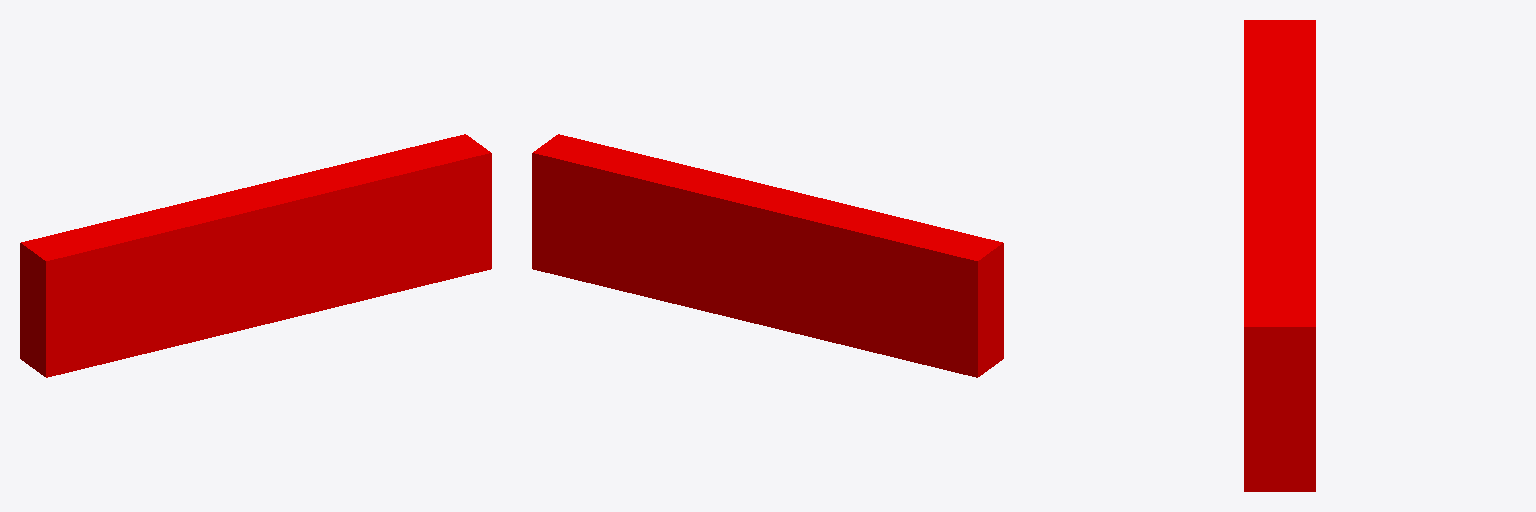
The robot description file, URDF, robot "plate1":
<?xml version="1.0" ?>
<robot name="plate1">
  <link concave="no" name="plateLink1">
  <contact>
      <lateral_friction value="2"/>
  </contact>
    <inertial>
      <origin rpy="0 0 0" xyz="-1 -0.15 0"/>
       <mass value=".0"/>
       <inertia ixx="0" ixy="0" ixz="0" iyy="0" iyz="0" izz="0"/>
    </inertial>
    <visual>
      <origin rpy="0 0 0" xyz="-1 -0.15 0"/>
      <geometry>
      	<box size="2 0.2 0.5"/>
      </geometry>
       <material name="red">
        <color rgba="1 0 0 0.7"/>
      </material>
    </visual>
    <collision concave="no">
      <origin rpy="0 0 0" xyz="-1 -0.15 0"/>
      <geometry>
      	<box size="2 0.2 0.5"/>
      </geometry>
    </collision>
  </link>
</robot>

--- Facts derived from the render (not from the file) ---
Views: 3 orthographic renders of the robot side by side, from view 1: azimuth 30°, elevation 25°; view 2: azimuth 150°, elevation 25°; view 3: azimuth 270°, elevation 25°.
Robot: plate1 — 1 links, 0 joints (none); root link plateLink1; default pose: all joints at 0.
Visible links, largest first — view 1: plateLink1; view 2: plateLink1; view 3: plateLink1.
Link boxes in pixels (<box>): plateLink1: <box>20,134,491,377</box>; plateLink1: <box>532,134,1003,377</box>; plateLink1: <box>1244,20,1315,491</box>.
Bounding box of the posed robot: 2 × 0.2 × 0.5 m (x, y, z).
Geometry: primitives only (box / cylinder / sphere), no mesh files.